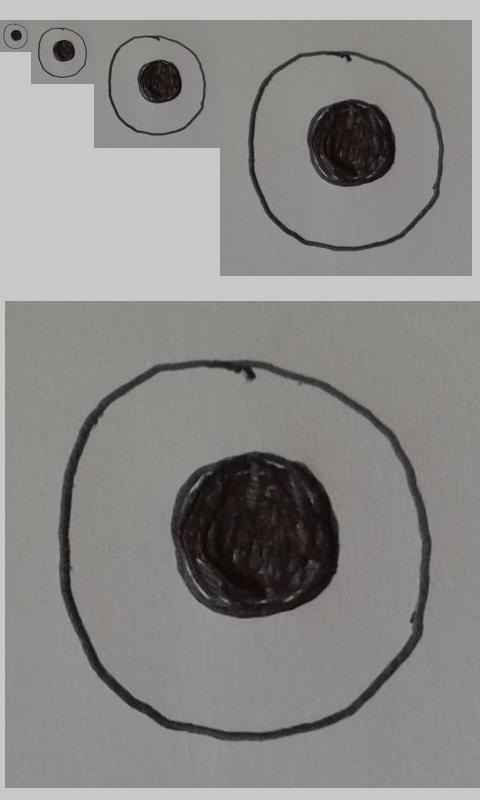radio_button: (53, 355, 436, 744), (246, 48, 446, 255), (107, 34, 207, 136), (37, 27, 89, 79), (2, 23, 28, 50)
